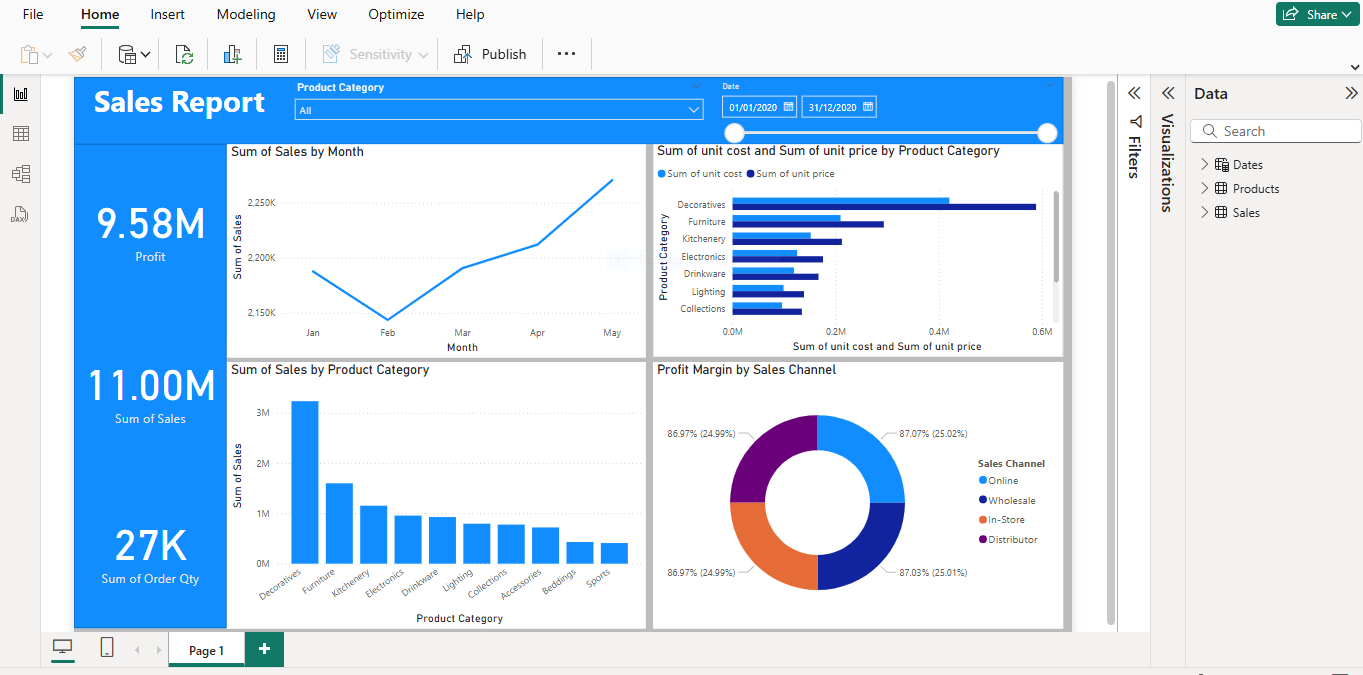

The dashboard page shown, as its layout file describes it:
{"tool":"powerbi","page":{"name":"Page 1","canvas":[1280,720],"ordinal":0},"visuals":[{"type":"lineChart","fields":{"Y":["Sum(Sales.Sales)"],"Category":["Dates.Month"]},"box":[195.6,86.5,537.2,273.5],"z":0},{"type":"clusteredColumnChart","fields":{"Y":["Sum(Sales.Sales)"],"Category":["Products.Product Category"]},"box":[195.6,365.7,537.2,341.6],"z":1000},{"type":"clusteredBarChart","fields":{"Y":["Sum(Sales.unit cost)","Sum(Sales.unit price)"],"Category":["Products.Product Category"]},"box":[742.7,85,525.8,273.5],"z":2000},{"type":"donutChart","fields":{"Y":["Sales.Profit Margin"],"Category":["Sales.Sales Channel"]},"box":[742.7,365.7,525.8,341.6],"z":3000},{"type":"shape","box":[0,0,1268.5,86.5],"z":4000},{"type":"shape","box":[0,86.5,195.6,620.8],"z":5000},{"type":"textbox","box":[0,0,279.8,85.9],"z":6000},{"type":"card","fields":{"Values":["Sales.Profit"]},"box":[0,86.5,195.6,209.8],"z":7000},{"type":"card","fields":{"Values":["Sum(Sales.Sales)"]},"box":[0,296.2,195.6,205.5],"z":8000},{"type":"card","fields":{"Values":["Sum(Sales.Order Qty)"]},"box":[0,501.7,195.6,205.5],"z":9000},{"type":"slicer","fields":{"Values":["Dates.Date"]},"box":[817.8,0,450.7,86.5],"z":10000},{"type":"slicer","fields":{"Values":["Products.Product Category"]},"box":[273.5,0,544.3,86.5],"z":11000}]}

Visuals, with their boxes on the page's 1280x720 design canvas (x1, y1, x2, y2). These are canvas units, not pixel positions in the 1363x675 screenshot, which may show the page scaled, cropped or inside an application window:
lineChart - Sum(Sales.Sales) x Dates.Month: region(196, 86, 733, 360)
clusteredColumnChart - Sum(Sales.Sales) x Products.Product Category: region(196, 366, 733, 707)
clusteredBarChart - Sum(Sales.unit cost) x Sum(Sales.unit price): region(743, 85, 1268, 358)
donutChart - Sales.Profit Margin x Sales.Sales Channel: region(743, 366, 1268, 707)
shape: region(0, 0, 1268, 86)
shape: region(0, 86, 196, 707)
textbox: region(0, 0, 280, 86)
card - Sales.Profit: region(0, 86, 196, 296)
card - Sum(Sales.Sales): region(0, 296, 196, 502)
card - Sum(Sales.Order Qty): region(0, 502, 196, 707)
slicer - Dates.Date: region(818, 0, 1268, 86)
slicer - Products.Product Category: region(274, 0, 818, 86)
